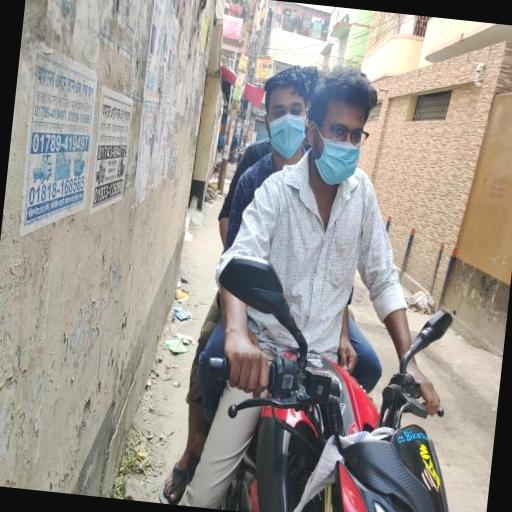no helmet: (302, 93, 389, 247)
triple riding: (174, 53, 492, 512)
